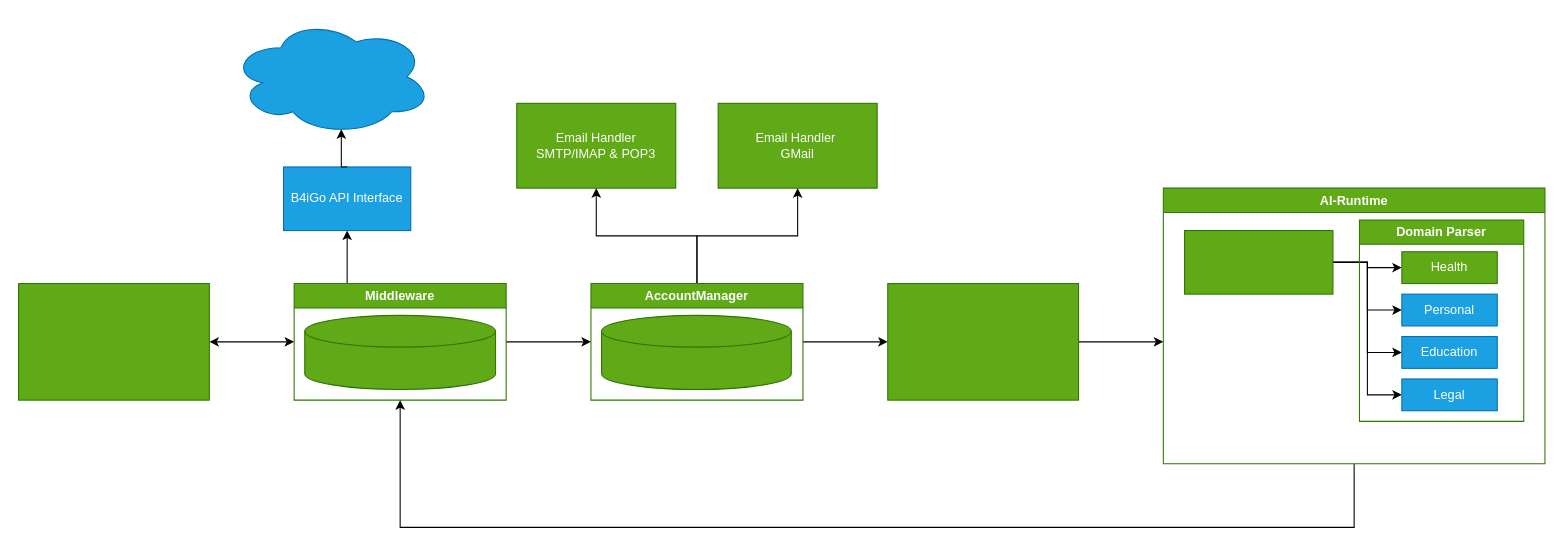
Image size: 1563x554. Some labels were removed from this diagram. Here are the shapes that lost their labels. From the top down, the centre of each, then its label:
point (330, 76): B4iGo Service
point (1258, 261): Email Domain Classifier
point (113, 341): Vite Frontend
point (400, 352): sqlite3-confirmation-queue (in memory database)
point (695, 352): sqlite3-account-data
point (983, 341): Account Pull Scheduler
